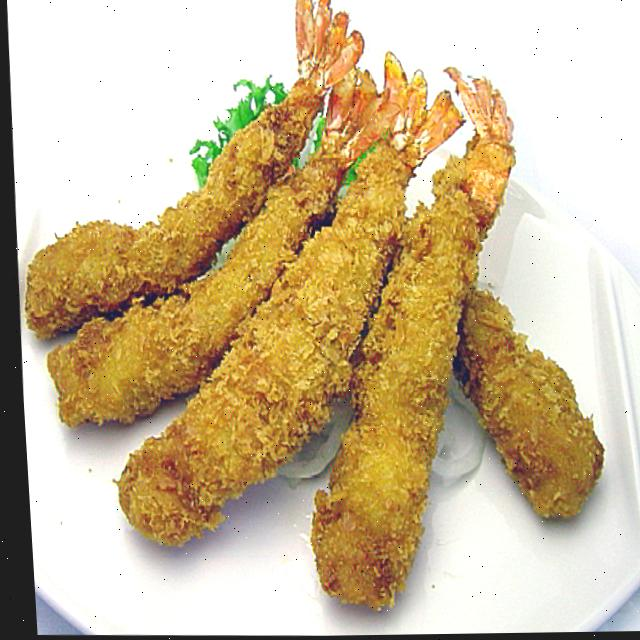炸货点心: (0, 0, 626, 634)
熟制海鲜: (0, 0, 626, 634)
